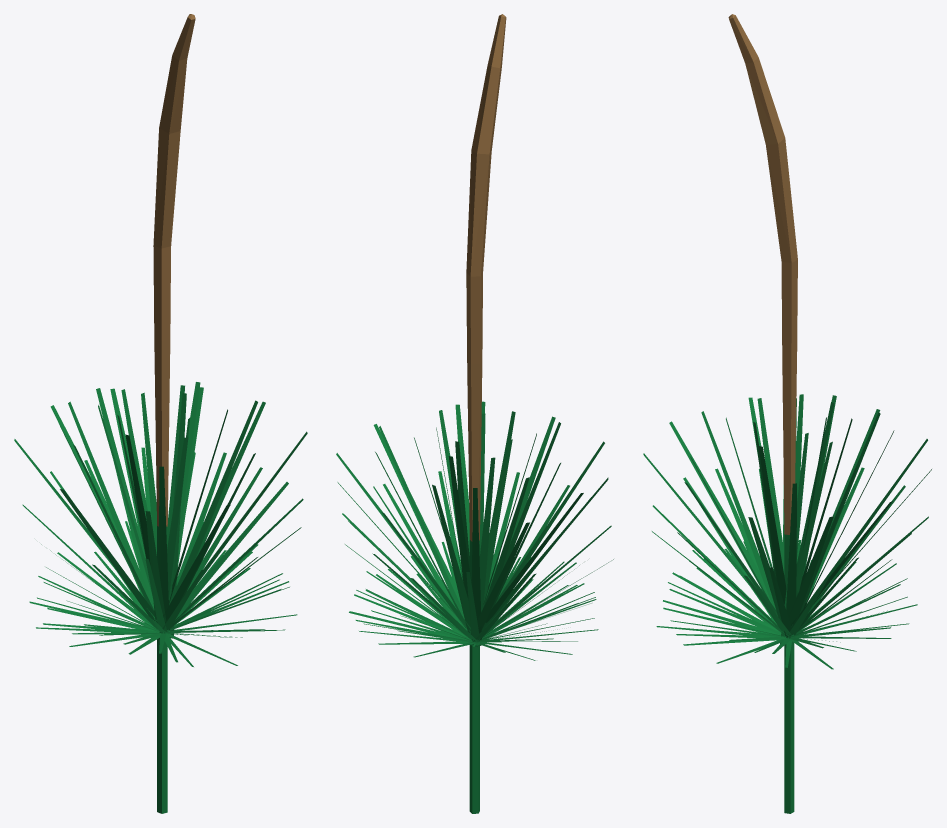
Rendered from DesertSpoon_LOD0.fbx.
The picture shows the model from 3 angles, left to right: view 1: azimuth 30°, elevation 25°; view 2: azimuth 150°, elevation 25°; view 3: azimuth 270°, elevation 25°; orthographic projection. The views are drawn at different scales.
Parts seen in each view (by area): view 1: DesertSpoon_LOD0; view 2: DesertSpoon_LOD0; view 3: DesertSpoon_LOD0.
Boxes of the visible parts, x1,y1,x2,y2 form: DesertSpoon_LOD0: (14,14,307,813); DesertSpoon_LOD0: (336,14,613,813); DesertSpoon_LOD0: (643,14,931,813).
Bounding box in the file's own units: 91.38 × 278 × 91.57.
